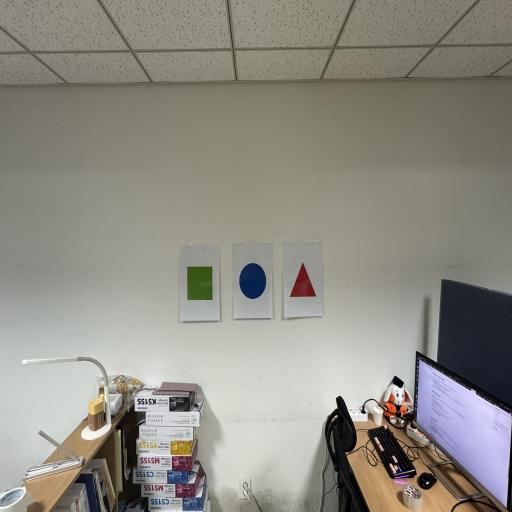blue_circle: (240, 263, 266, 299)
green_rectangle: (187, 267, 212, 301)
red_triangle: (289, 262, 317, 297)
